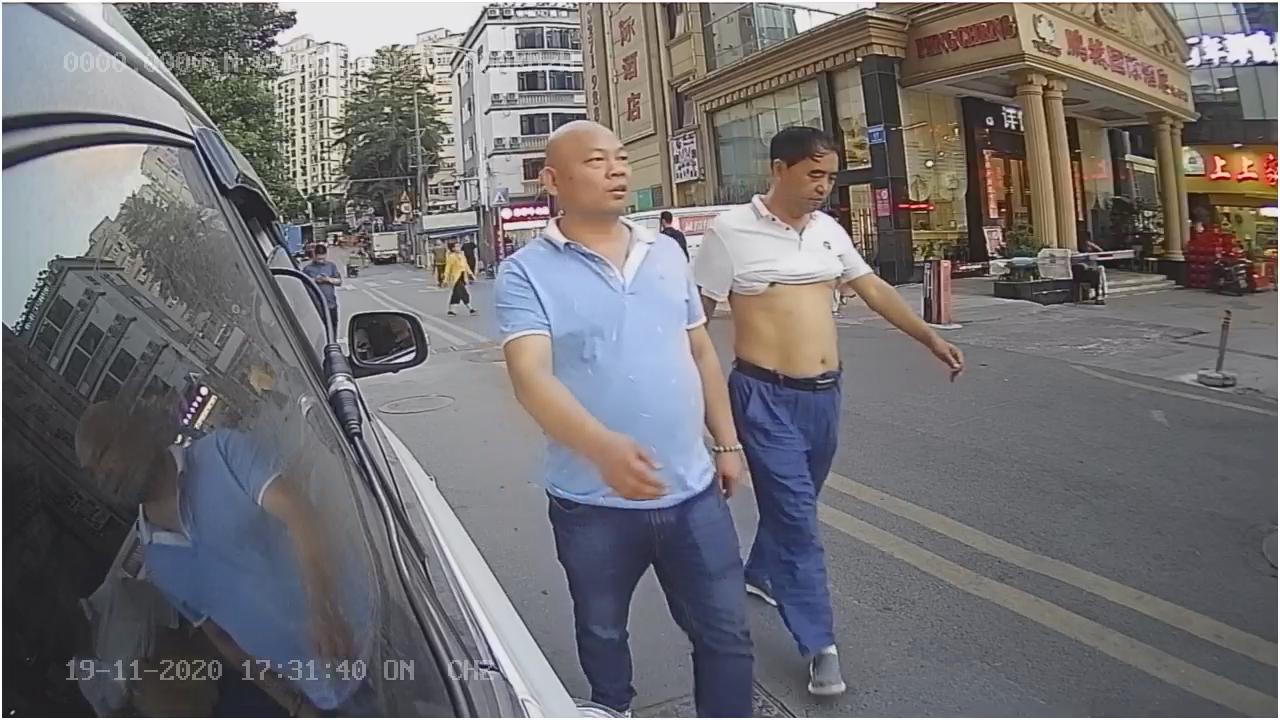person: (481, 115, 745, 545)
